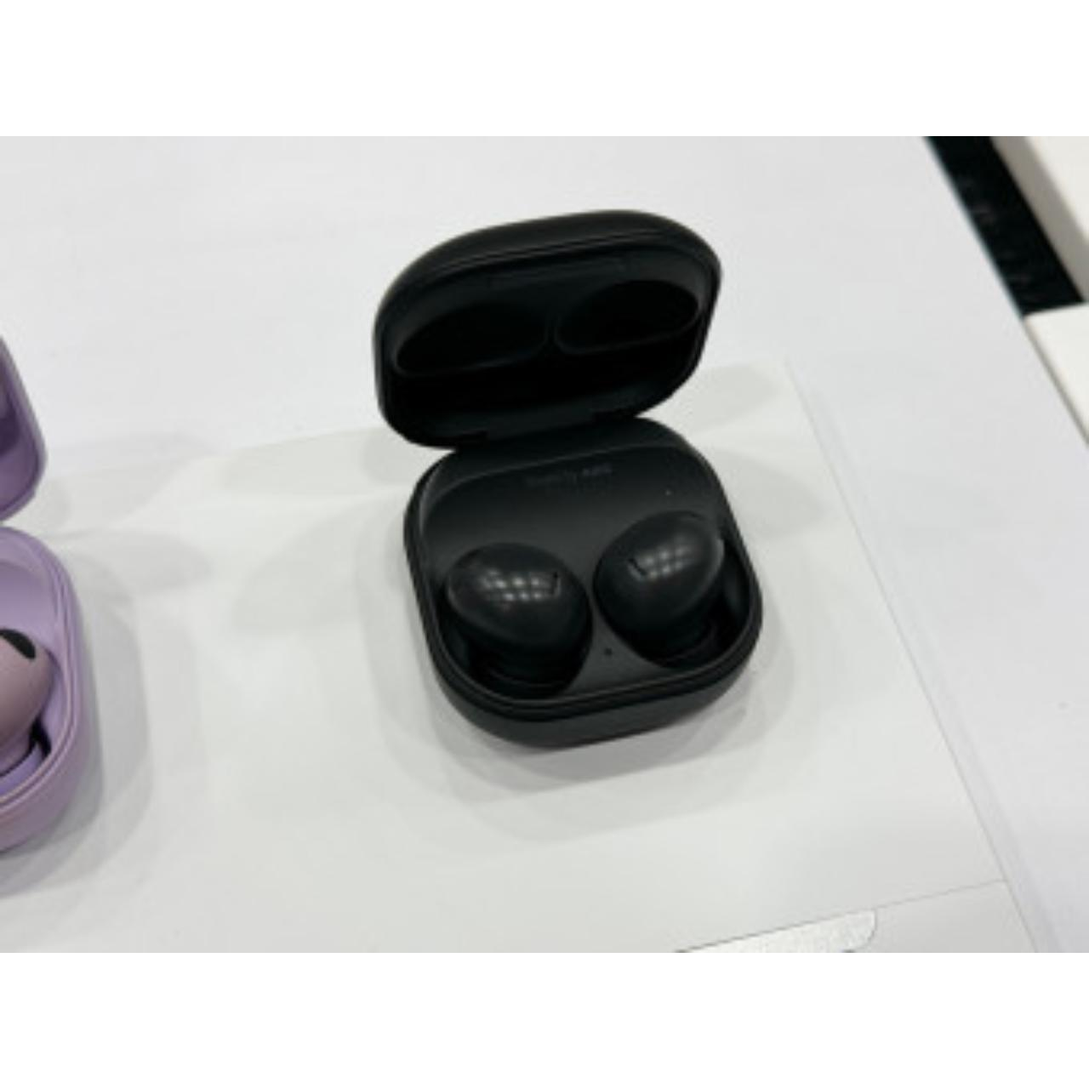Buds: (370, 203, 770, 760)
Buds_Units: (432, 539, 596, 705), (594, 504, 749, 673)
